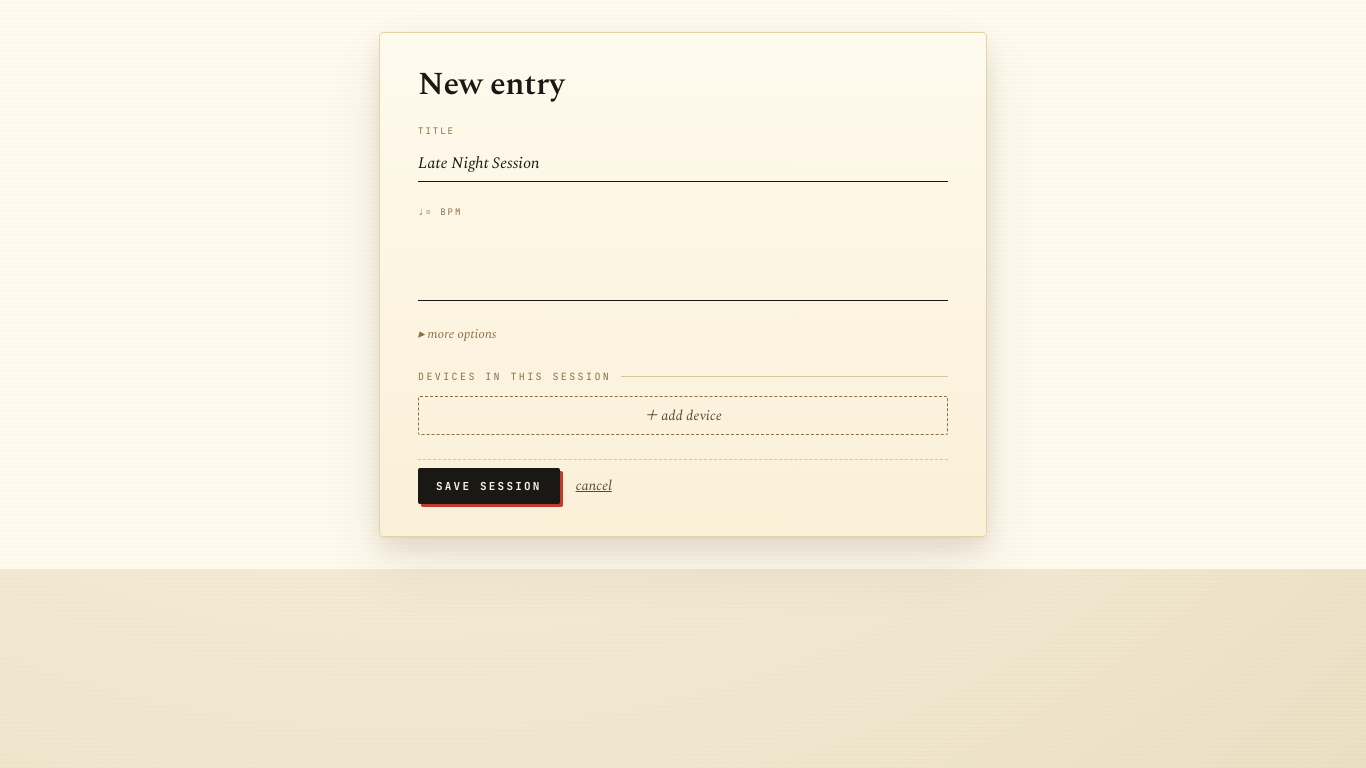
Test: New session form › renders metadata fields and Save session button
Expected: the field labelled "Title" is shown, [418,144,948,182]
Expected: the number field labelled "♩= BPM" is shown, [418,225,948,301]
Click the button "▸ more options" at (457, 335), box [418,325,496,344]
(page scrolled)
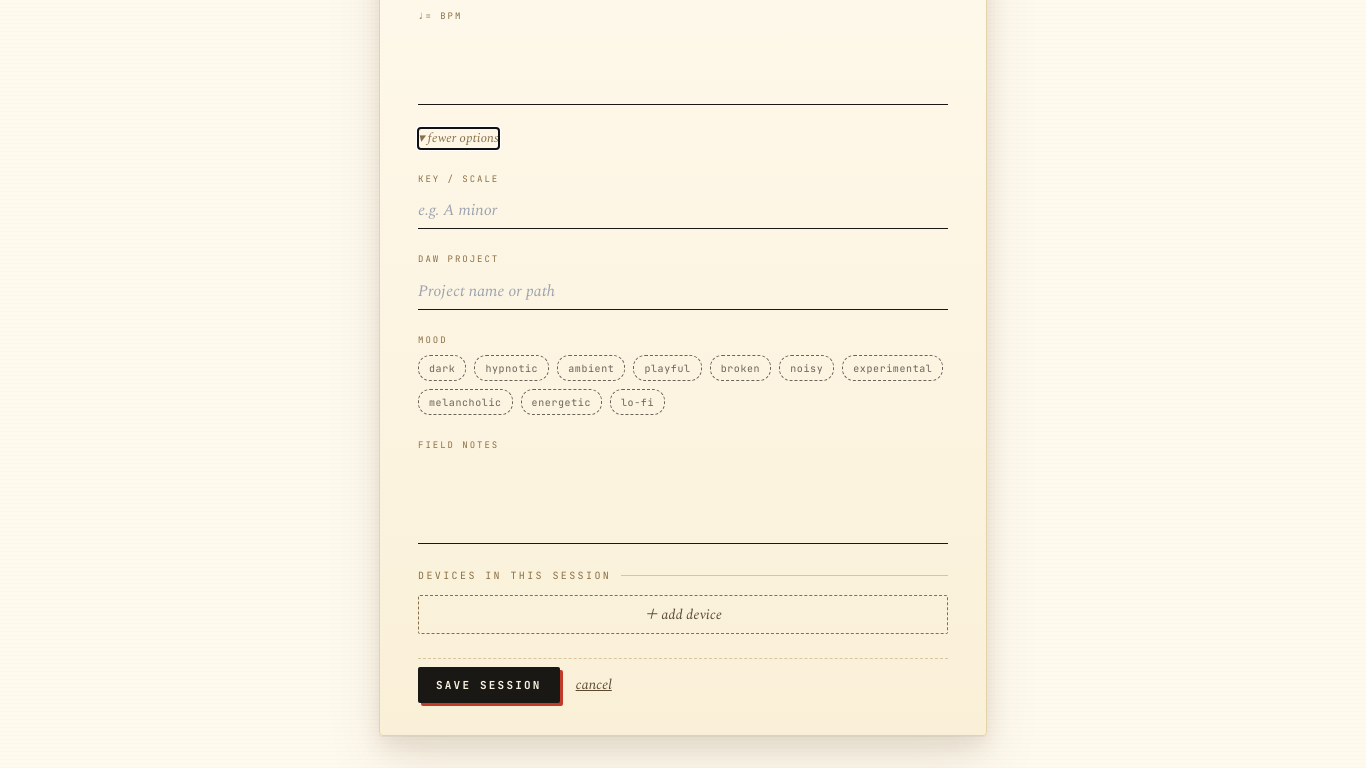
Now the field labelled "Key / Scale" is shown, box [418,192,948,229]
Now the field labelled "DAW project" is shown, box [418,272,948,310]
Now the text box labelled "Field notes" is shown, box [418,458,948,544]
